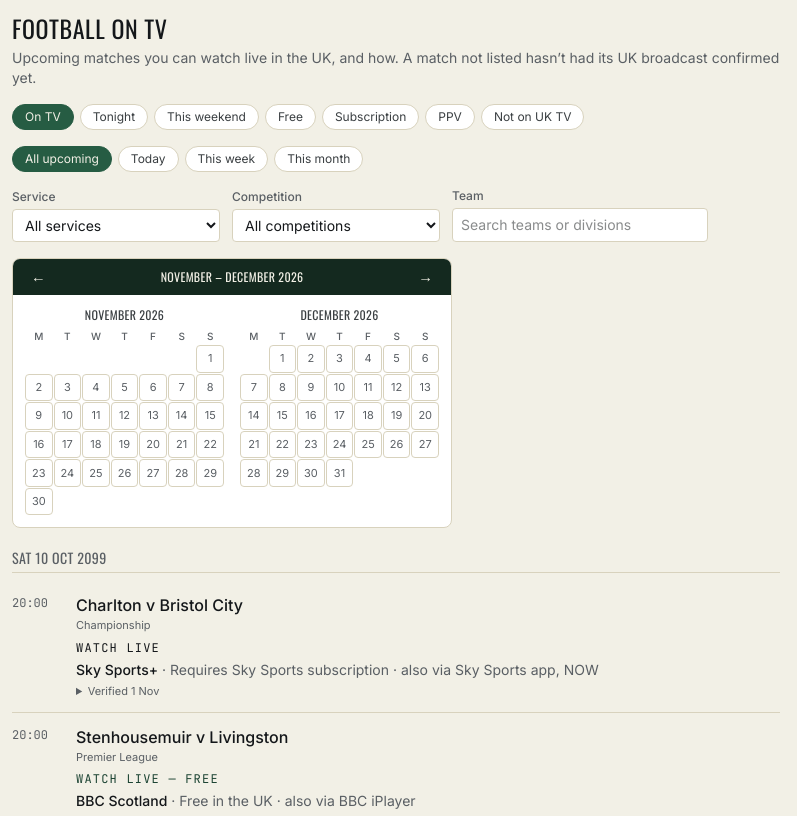
Scenario: TvGuidePage -- UK Watch Guide › shows each state clearly: subscription, free, multiple free routes, PPV, not televised
Expected: the link "Charlton v Bristol City" is shown, [76,596,243,616]
Expected: the text "Watch live" is shown, [76,640,160,656]
What coordinates should you click on to do the following:
click the button "Not on UK TV"
I would click on:
 (533, 117)
Its box is [481,104,584,130].
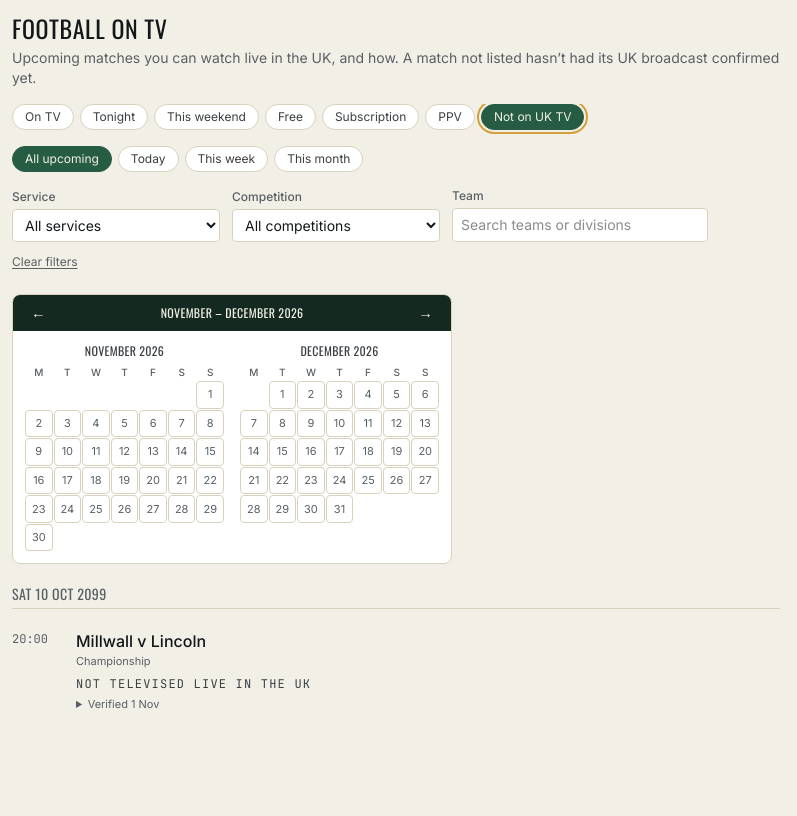
Now the text "Not televised live in the UK" is shown, box [76,676,311,692]
